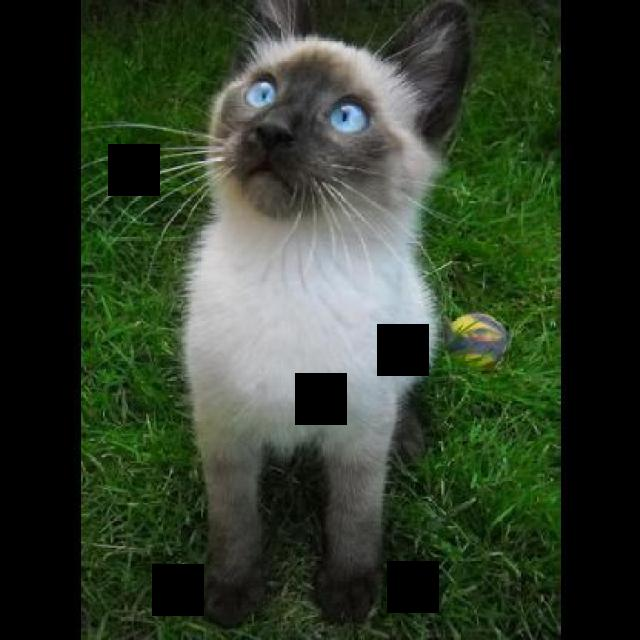unauthorized: (78, 0, 474, 629)
